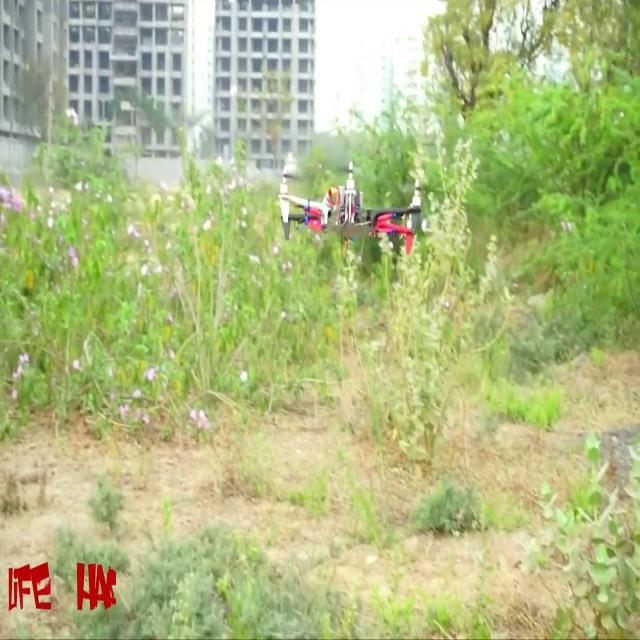drone: (250, 147, 440, 270)
